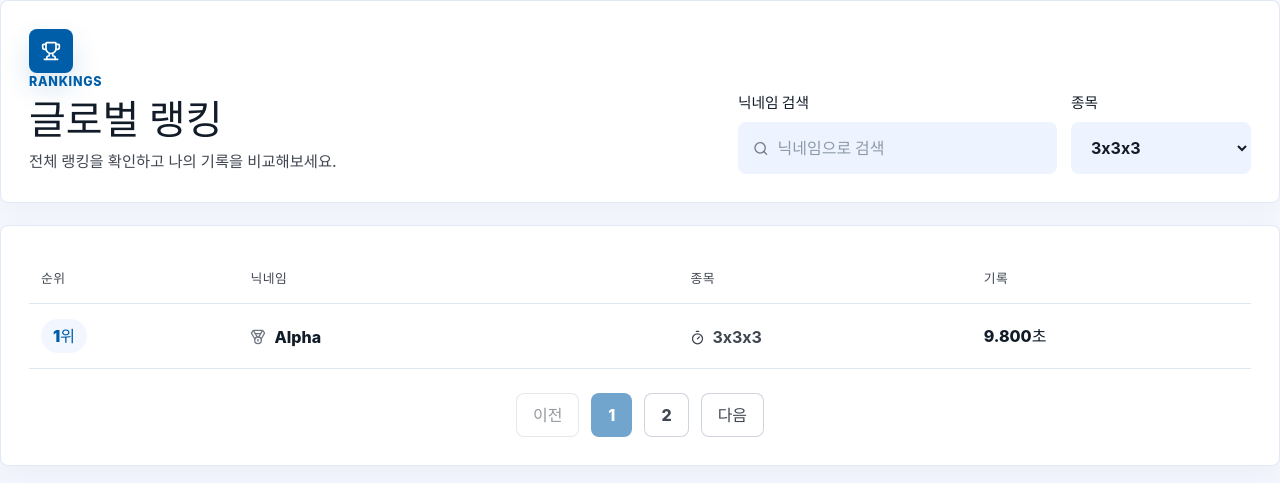
Test: RankingsPage › should_normalize_page_when_loaded_page_exceeds_total_pages
Check: the text "Alpha" is shown, box [274,325,321,349]
Click the button "다음". click: (732,416)
box: [701,394,764,438]
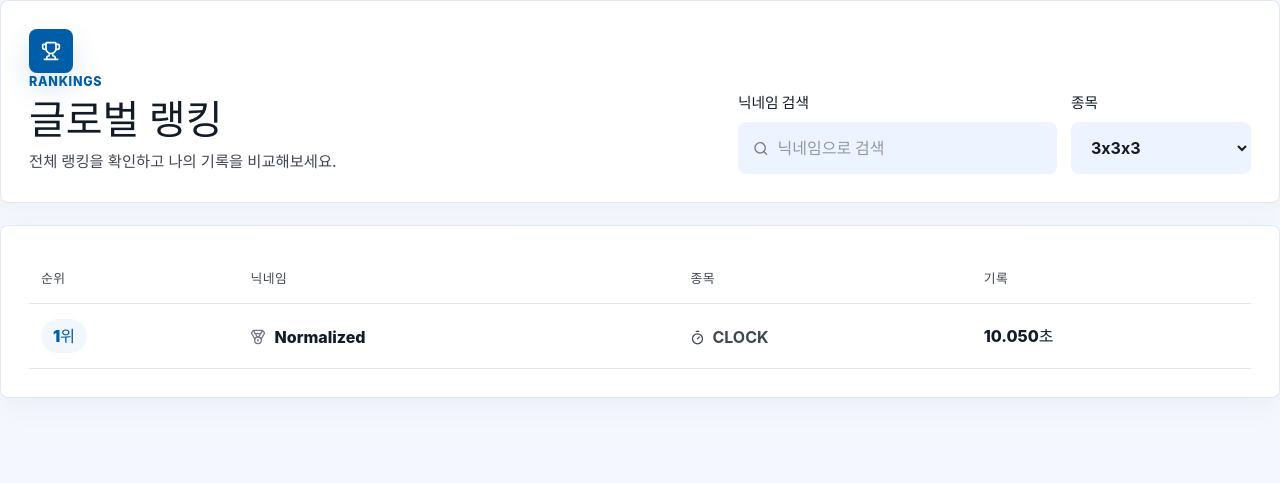
Check: the text "Normalized" is shown, box [274,325,366,349]
Check: the text "CLOCK" is shown, box [712,325,768,349]
